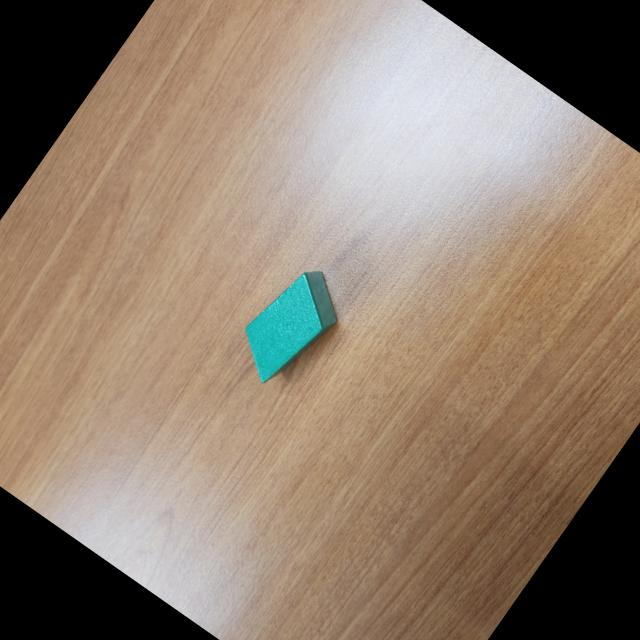green: (223, 254, 355, 398)
